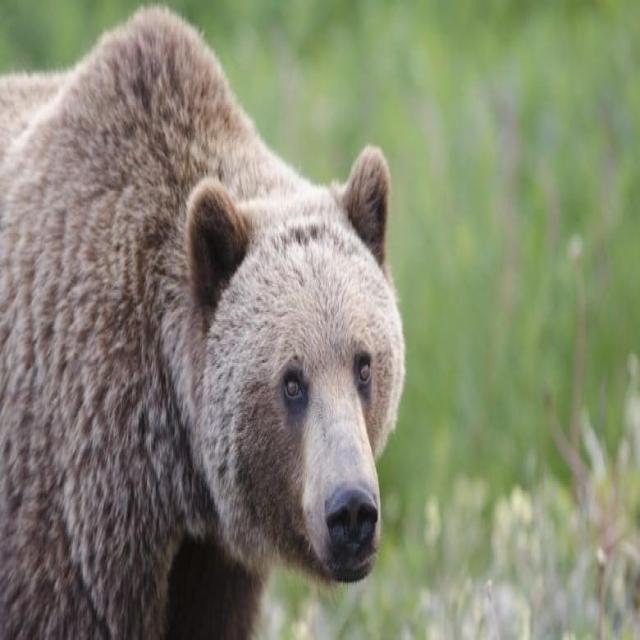Bear: (0, 7, 407, 640)
